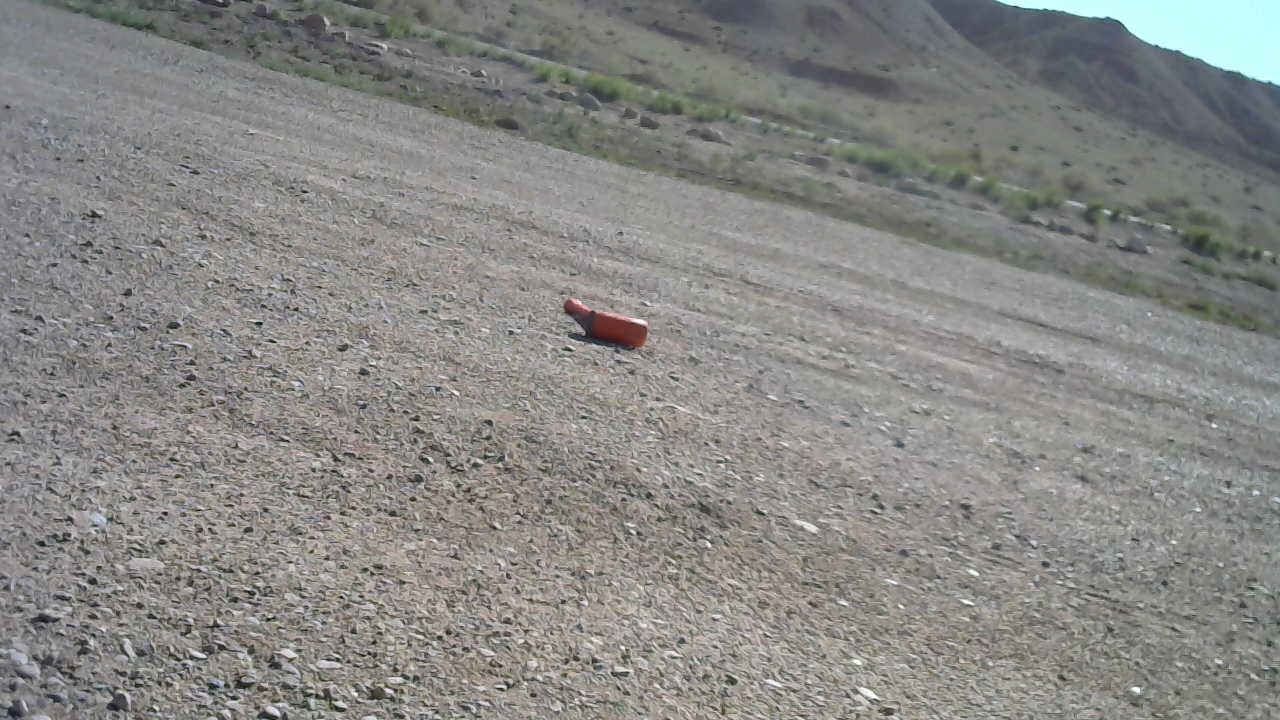hammer: (558, 289, 653, 349)
